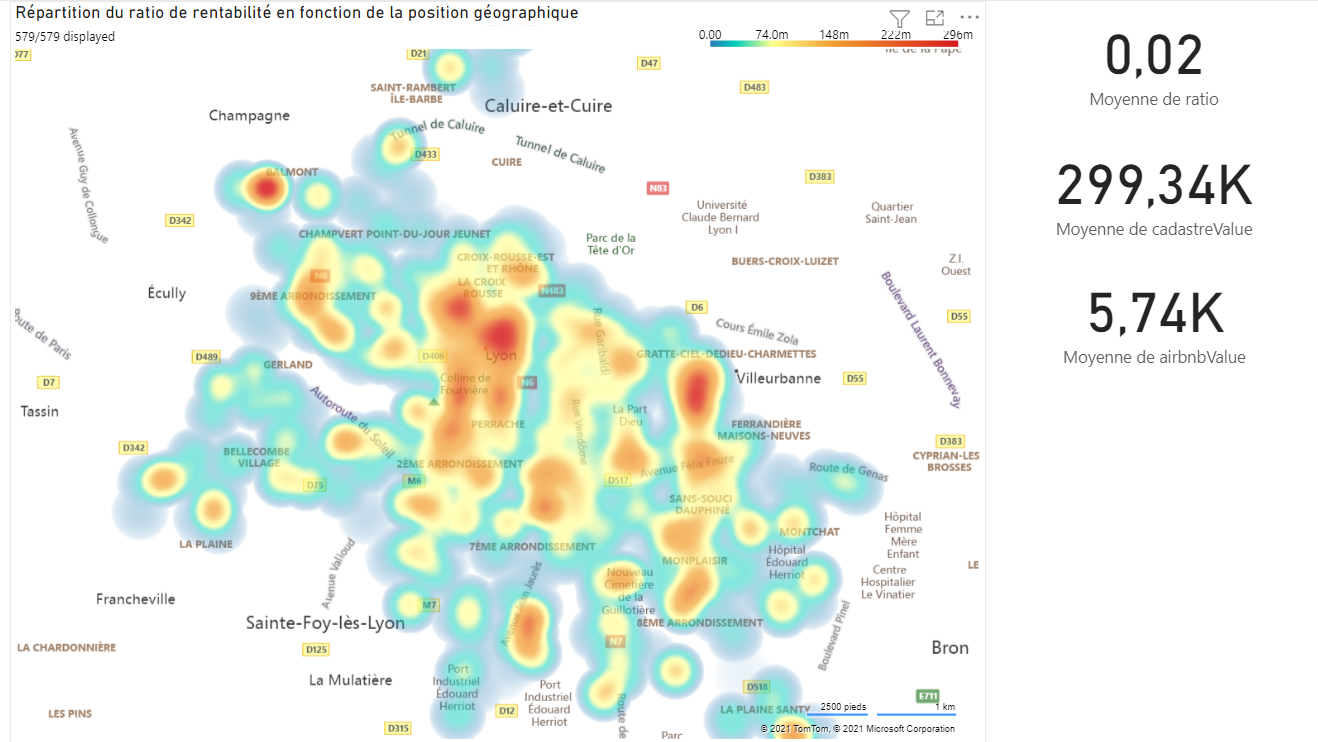

Layout of this report page (visuals, bound fields, positions):
{"tool":"powerbi","page":{"name":"Data","canvas":[1280,720],"ordinal":0},"visuals":[{"type":"heatmapF244EA9EE1F34E828A80CF19B41976F8","title":"Répartition du ratio de rentabilité en fonction de la position géographique","fields":{"latitude":["data.latitude"],"longitude":["data.longitude"],"value":["Max(data.ratio)"]},"box":[10,0,945,719.8],"z":0},{"type":"card","fields":{"Values":["Avg(data.ratio)"]},"box":[955,0,325,111.2],"z":1},{"type":"card","fields":{"Values":["Avg(data.cadastreValue)"]},"box":[955,111.2,325,141.1],"z":2},{"type":"card","fields":{"Values":["Avg(data.airbnbValue)"]},"box":[954.5,252.1,325.5,107.7],"z":3}]}

Visuals, with their boxes in screenshot pixels (x1, y1, x2, y2), scaled from the page's 1280x720 canvas onto the 1318x742 screenshot:
"Répartition du ratio de rentabilité en fonction de la position géographique" heatmapF244EA9EE1F34E828A80CF19B41976F8: box(10, 0, 983, 741)
card - Avg(data.ratio): box(983, 0, 1317, 115)
card - Avg(data.cadastreValue): box(983, 115, 1317, 260)
card - Avg(data.airbnbValue): box(983, 260, 1317, 371)
